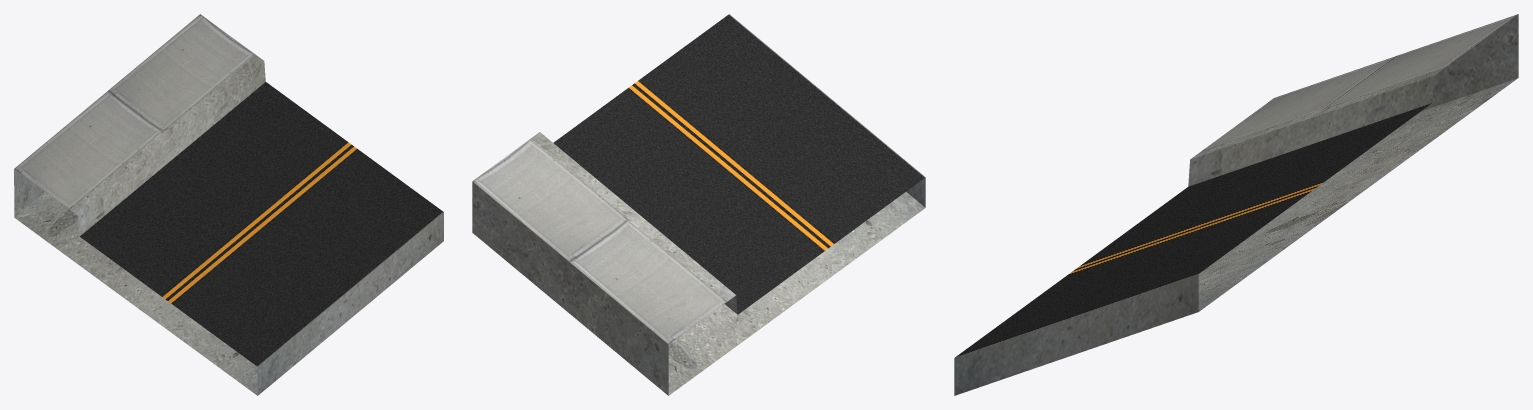
Rendered from street1_slant.fbx.
The picture shows the model from 3 angles, left to right: view 1: azimuth 30°, elevation 25°; view 2: azimuth 150°, elevation 25°; view 3: azimuth 330°, elevation 25°; orthographic projection. The views are drawn at different scales.
Visible parts, largest first — view 1: pCube1; view 2: pCube1; view 3: pCube1.
Boxes of the visible parts, x1,y1,x2,y2 form: pCube1: (14, 14, 443, 395); pCube1: (472, 14, 925, 395); pCube1: (954, 14, 1518, 395).
Bounding box in the file's own units: 3.36 × 2.72 × 7.61.
